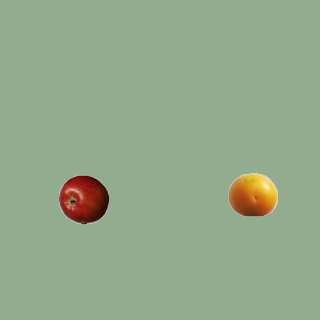Apple Braeburn: (58, 174, 108, 224)
Cherry Wax Yellow: (227, 169, 277, 219)
